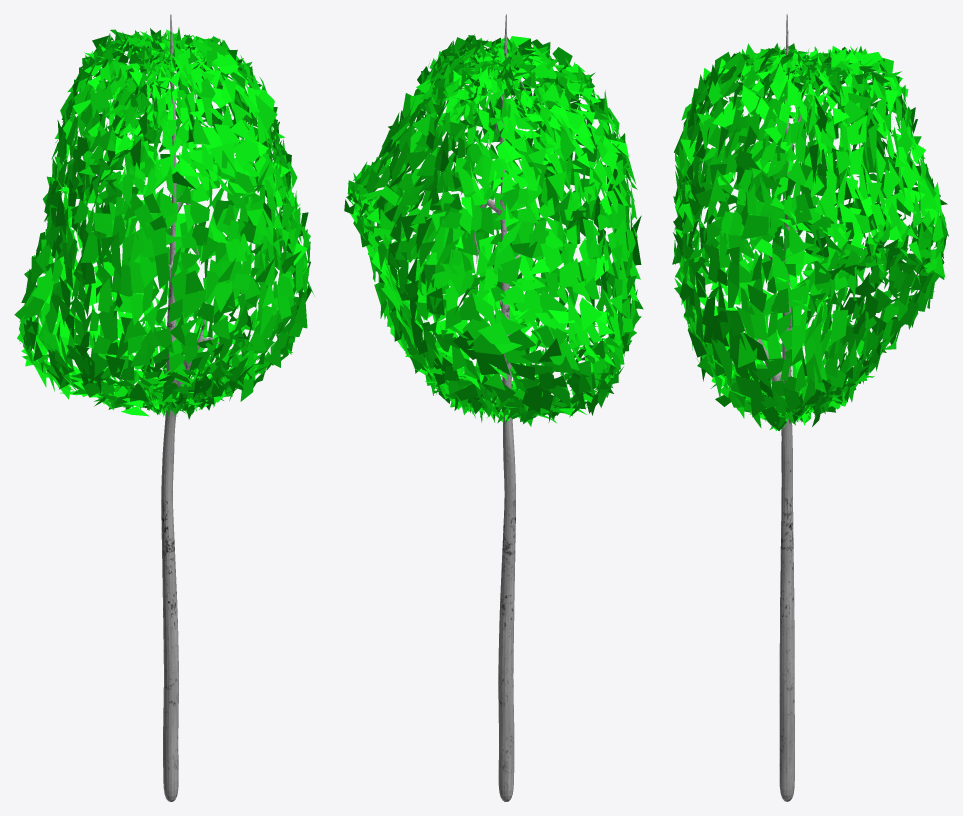
File: Leaves51.fbx
The picture shows the model from 3 angles, left to right: view 1: azimuth 30°, elevation 25°; view 2: azimuth 150°, elevation 25°; view 3: azimuth 270°, elevation 25°; orthographic projection.
Visible parts, largest first — view 1: Leaves51; view 2: Leaves51; view 3: Leaves51.
Boxes of the visible parts, left/top/right/bottom form: Leaves51: left=14, top=14, right=314, bottom=801; Leaves51: left=344, top=14, right=643, bottom=801; Leaves51: left=672, top=14, right=948, bottom=801.
Bounding box in the file's own units: 903 × 2574 × 820.
Materials: 2 (1 with a texture image).
